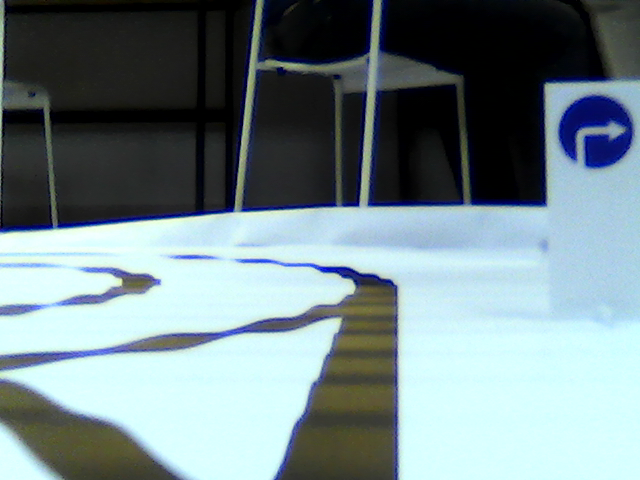Right: (557, 95, 632, 166)
